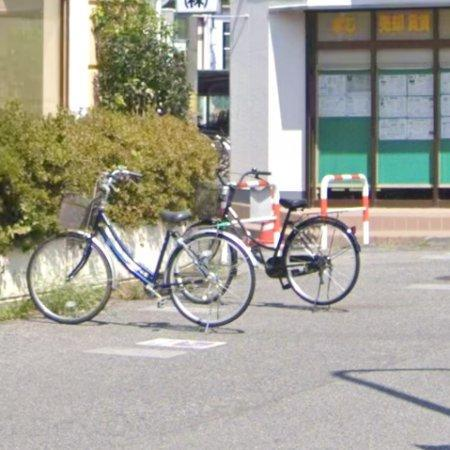bicycles: (27, 169, 256, 328), (187, 169, 361, 306)
